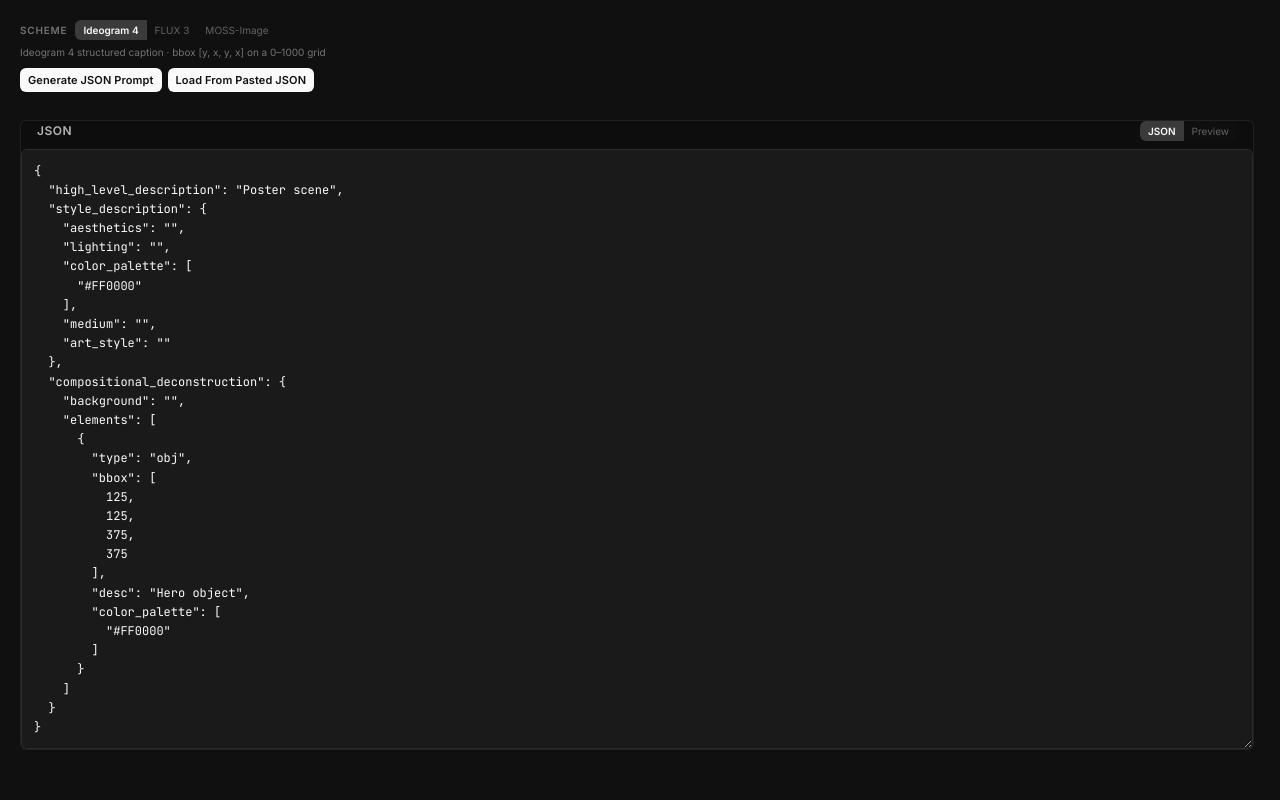
Test: JsonToolbar › 切换 Preview 时应使用当前画布状态渲染只读预览
Note: 点击 Preview tab
Click the tab "Preview".
click(1210, 130)  # box [1184,120,1237,140]
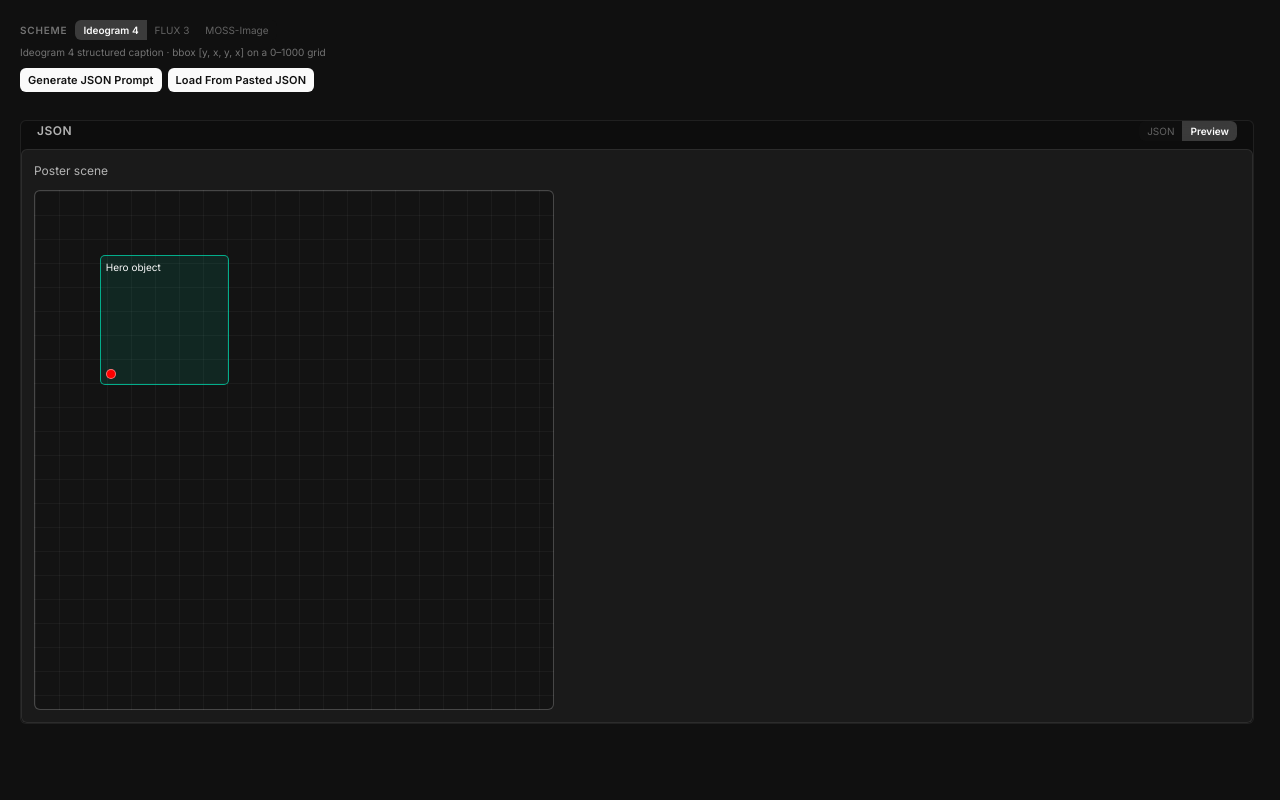
expect the text "Poster scene" is shown: met, box [34,162,108,178]
expect the text "Hero object" is shown: met, box [106,261,161,273]
expect the element with class "json-preview-canvas" is shown: met, box [34,190,554,710]
